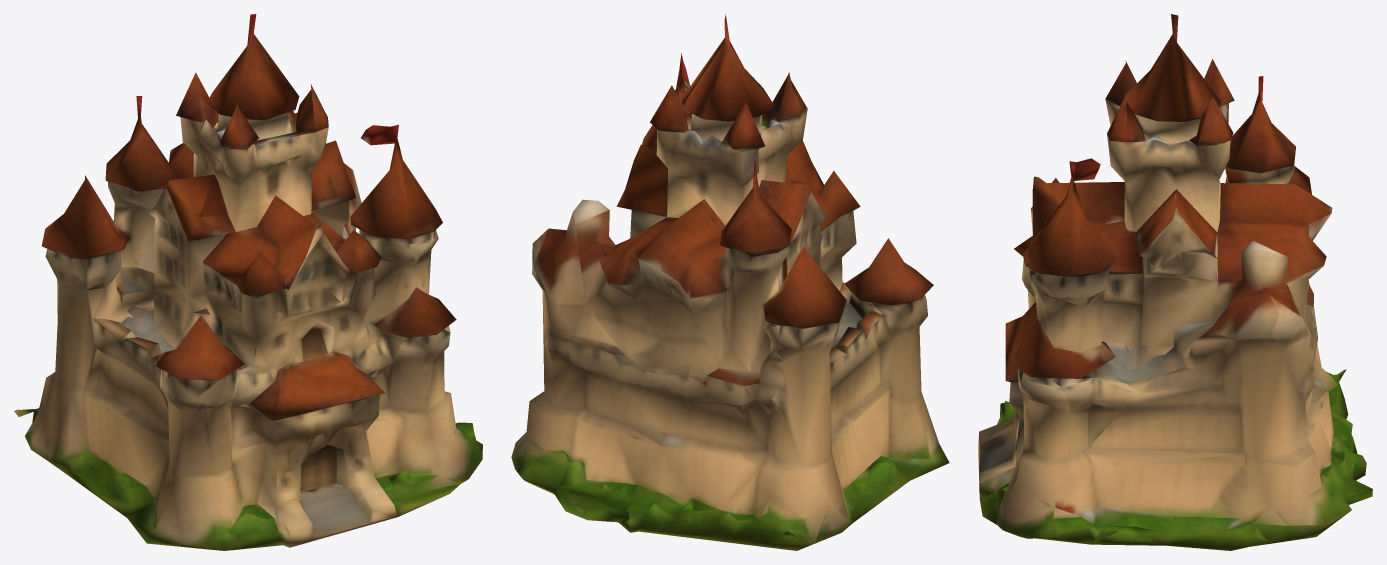
Rendered from castle.glb.
The picture shows the model from 3 angles, left to right: view 1: azimuth 30°, elevation 25°; view 2: azimuth 150°, elevation 25°; view 3: azimuth 270°, elevation 25°; orthographic projection. The views are drawn at different scales.
Parts seen in each view (by area): view 1: tmpzbup07x2.ply; view 2: tmpzbup07x2.ply; view 3: tmpzbup07x2.ply.
Part boxes in pixels (x1,y1,x2,y2): tmpzbup07x2.ply: (14, 14, 482, 550); tmpzbup07x2.ply: (511, 14, 949, 550); tmpzbup07x2.ply: (978, 14, 1372, 550).
Bounding box in the file's own units: 1.54 × 1.95 × 1.5.
Materials: 1 (1 with a texture image).
